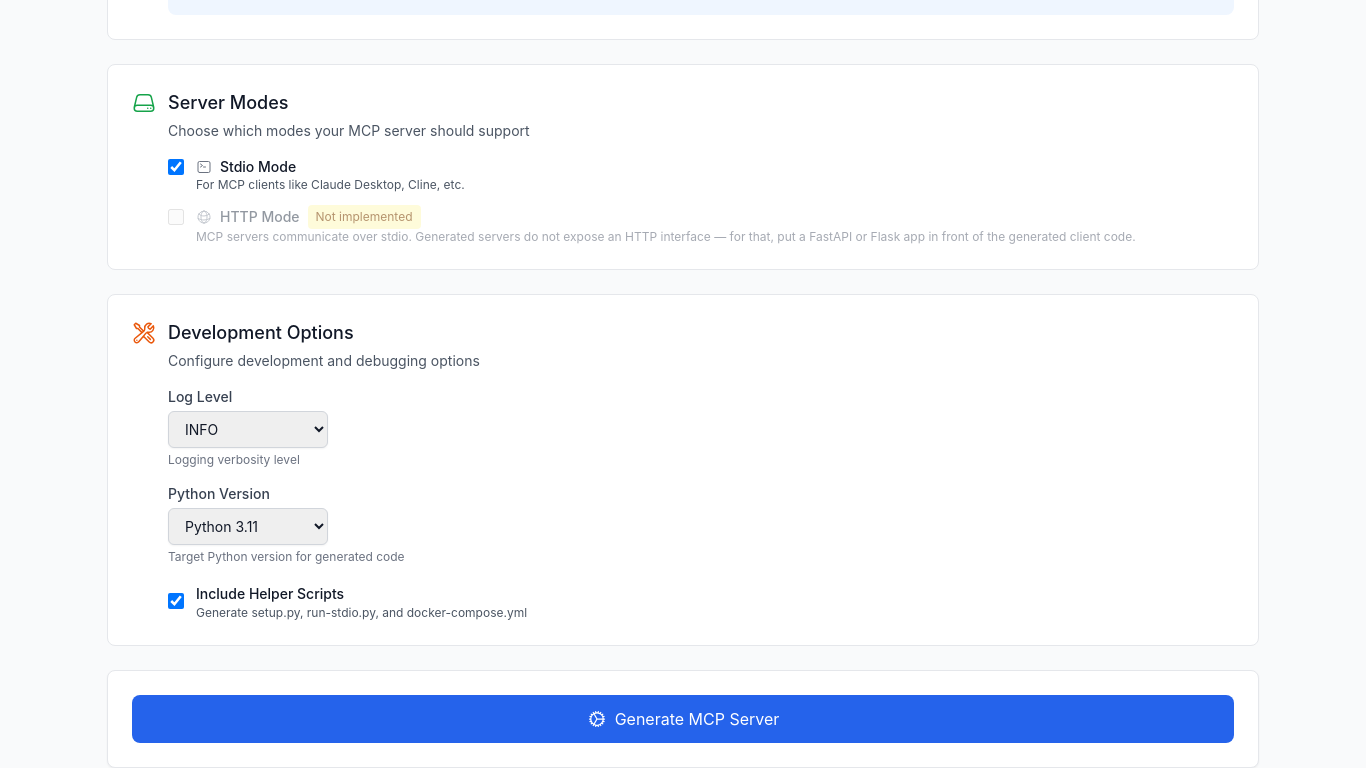
Test: MCPGenerator generation failure › surfaces the error instead of a fabricated project
(page scrolled)
Click the button at (683, 719), box [132,695,1234,743]
(page scrolled)
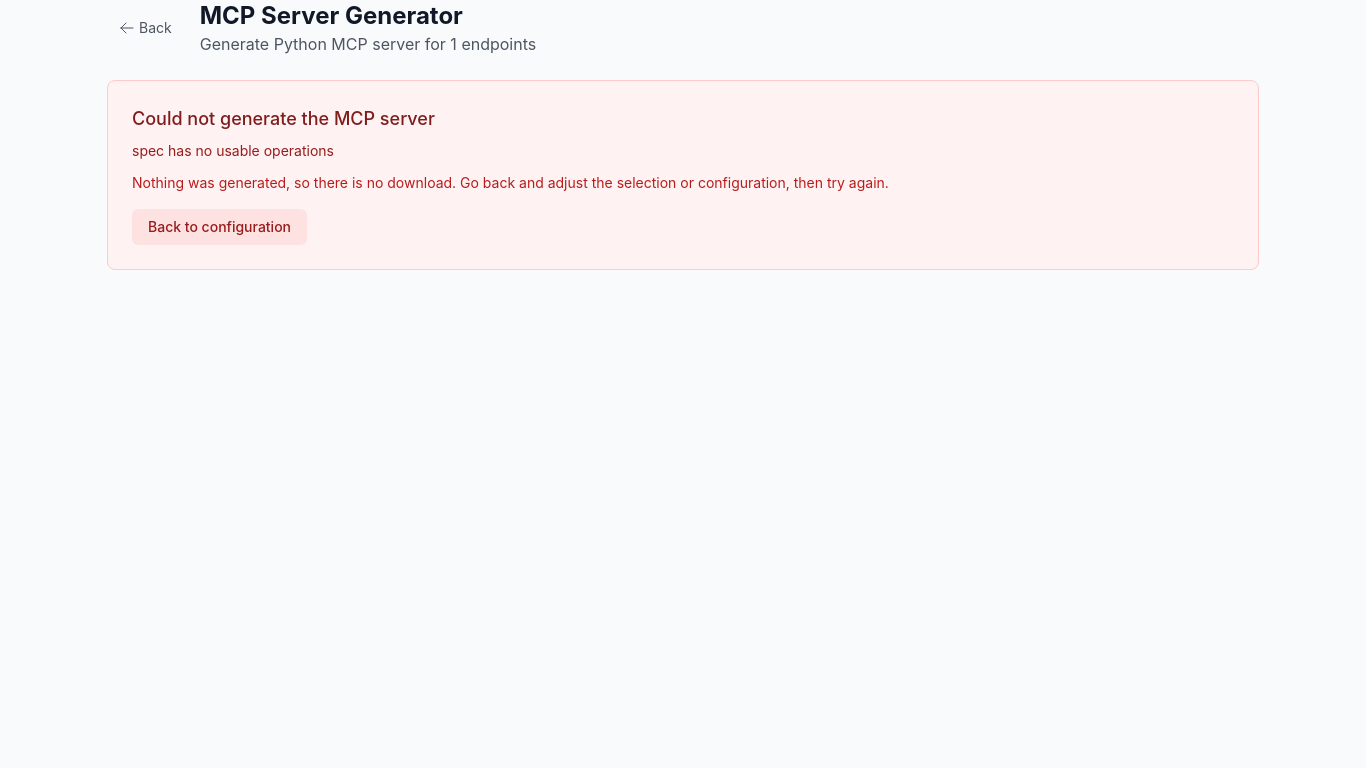
Expected: the message is shown, [107,80,1259,270]
Expected: the message shows "spec has no usable operations", [132,142,334,159]
Expected: the heading "Could not generate the MCP server" is shown, [132,108,435,129]
